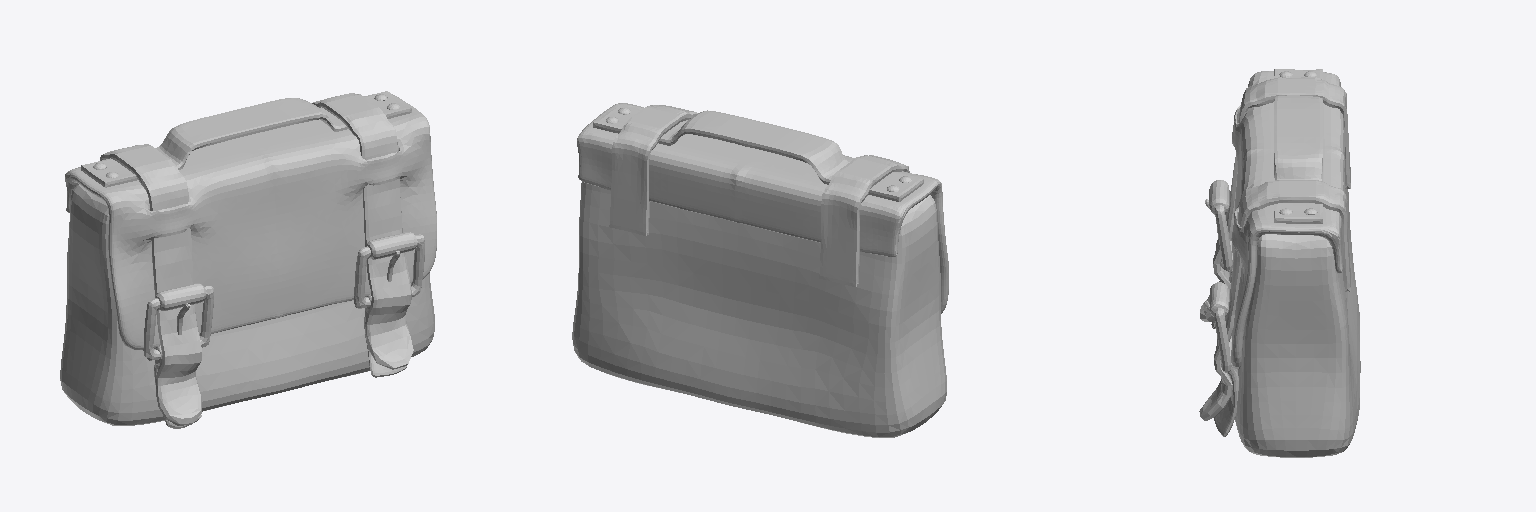
The model's file is sach2.OBJ.
The picture shows the model from 3 angles: view 1: azimuth 30°, elevation 25°; view 2: azimuth 150°, elevation 25°; view 3: azimuth 270°, elevation 25°; orthographic projection.
Parts seen in each view (by area): view 1: Group55837, Group7265, Group63743, Group63742, Group35527, Group47810, Group47811, Group47809, Group47808; view 2: Group7265, Group55837, Group35527, Group63743, Group63742; view 3: Group7265, Group55837, Group35527, Group63742, Group63743, Group14140, Group47811, Group47810, Group47809, Group47808.
Part boxes in pixels (left/top/right/bottom): Group55837: left=65, top=94, right=436, bottom=349; Group7265: left=60, top=184, right=434, bottom=425; Group63743: left=100, top=144, right=201, bottom=425; Group63742: left=312, top=93, right=413, bottom=369; Group35527: left=81, top=91, right=411, bottom=187; Group47810: left=354, top=234, right=424, bottom=308; Group47811: left=143, top=286, right=213, bottom=360; Group47809: left=155, top=283, right=206, bottom=310; Group47808: left=366, top=232, right=417, bottom=259; Group7265: left=572, top=182, right=946, bottom=437; Group55837: left=577, top=103, right=948, bottom=313; Group35527: left=593, top=104, right=923, bottom=201; Group63743: left=819, top=155, right=909, bottom=286; Group63742: left=609, top=105, right=697, bottom=235; Group7265: left=1235, top=189, right=1360, bottom=457; Group55837: left=1231, top=71, right=1344, bottom=368; Group35527: left=1274, top=69, right=1322, bottom=223; Group63742: left=1199, top=180, right=1350, bottom=420; Group63743: left=1200, top=77, right=1350, bottom=321; Group14140: left=1214, top=342, right=1238, bottom=436; Group47811: left=1215, top=205, right=1232, bottom=270; Group47810: left=1215, top=308, right=1231, bottom=372; Group47809: left=1209, top=180, right=1229, bottom=214; Group47808: left=1209, top=282, right=1229, bottom=316.
Bounding box in the file's own units: 2.49 × 1.81 × 1.02.